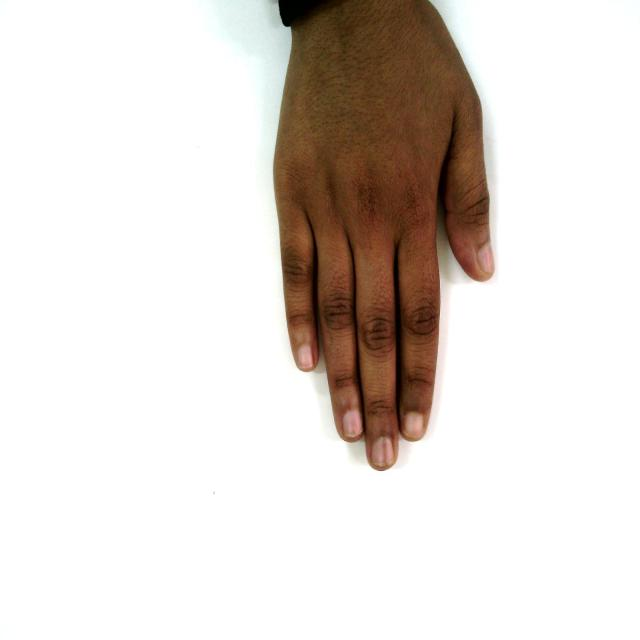Nail: (372, 436, 396, 468), (402, 412, 425, 442), (343, 409, 363, 438), (478, 243, 496, 274), (296, 344, 315, 370)
